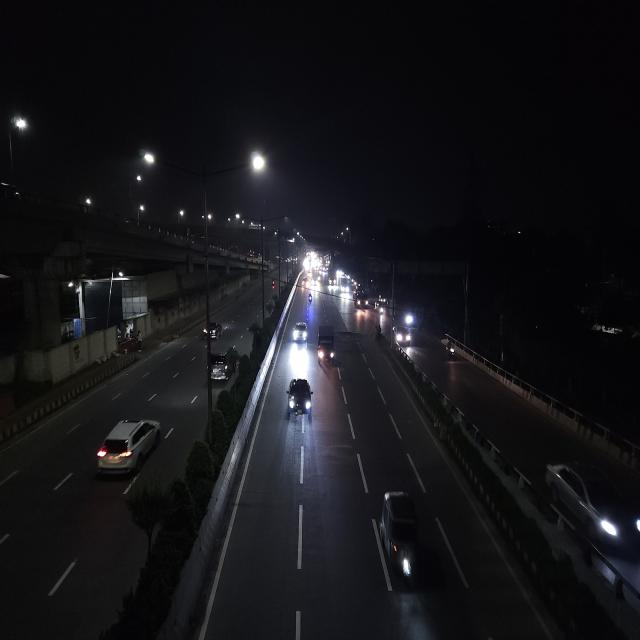car: (541, 454, 640, 561), (88, 411, 166, 485), (203, 345, 242, 388), (282, 375, 316, 421), (200, 317, 224, 343), (288, 319, 310, 344), (392, 322, 412, 349)
motorcycle: (440, 334, 458, 364), (305, 290, 313, 305)
truck: (316, 322, 336, 368), (353, 289, 368, 310)
